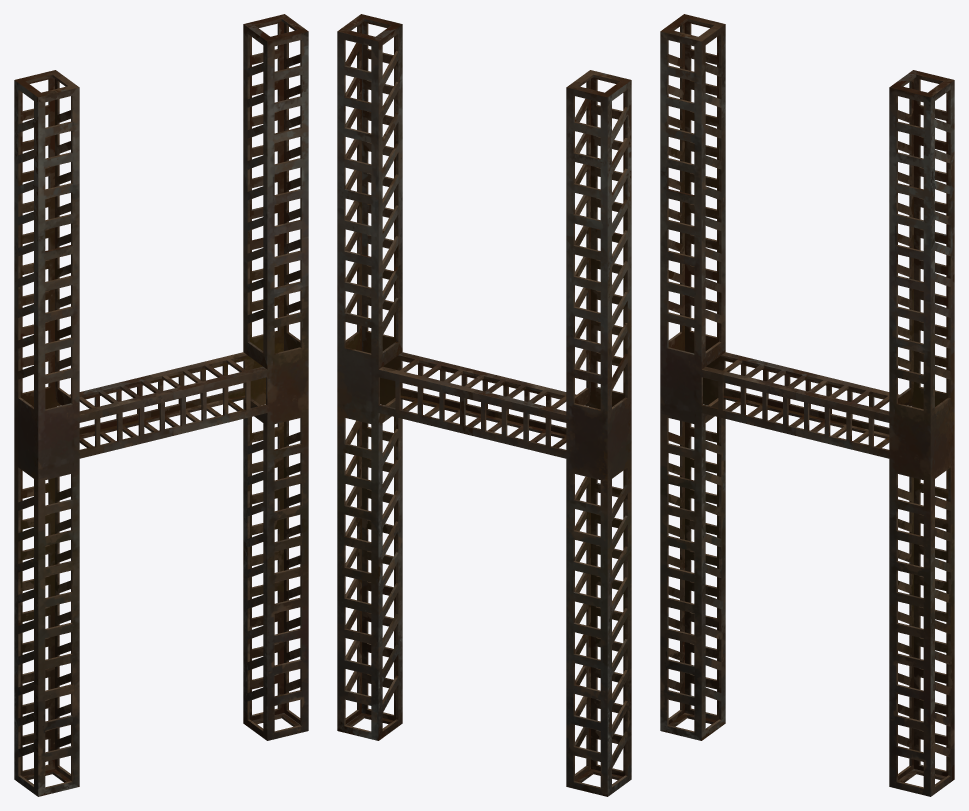
The model's file is OBJ_Podpora_pion.fbx.
3 renders of one model, left to right at view 1: azimuth 30°, elevation 25°; view 2: azimuth 150°, elevation 25°; view 3: azimuth 330°, elevation 25°, orthographic.
Parts seen in each view (by area): view 1: Podpory_pion; view 2: Podpory_pion; view 3: Podpory_pion.
Part boxes in pixels (<box>): Podpory_pion: <box>14,14,308,796</box>; Podpory_pion: <box>337,14,631,796</box>; Podpory_pion: <box>660,14,954,796</box>.
Bounding box in the file's own units: 3.52 × 0.5391 × 8.71.
